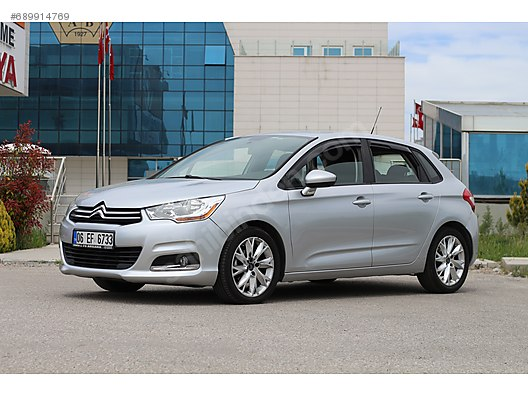c: (51, 130, 488, 315)
